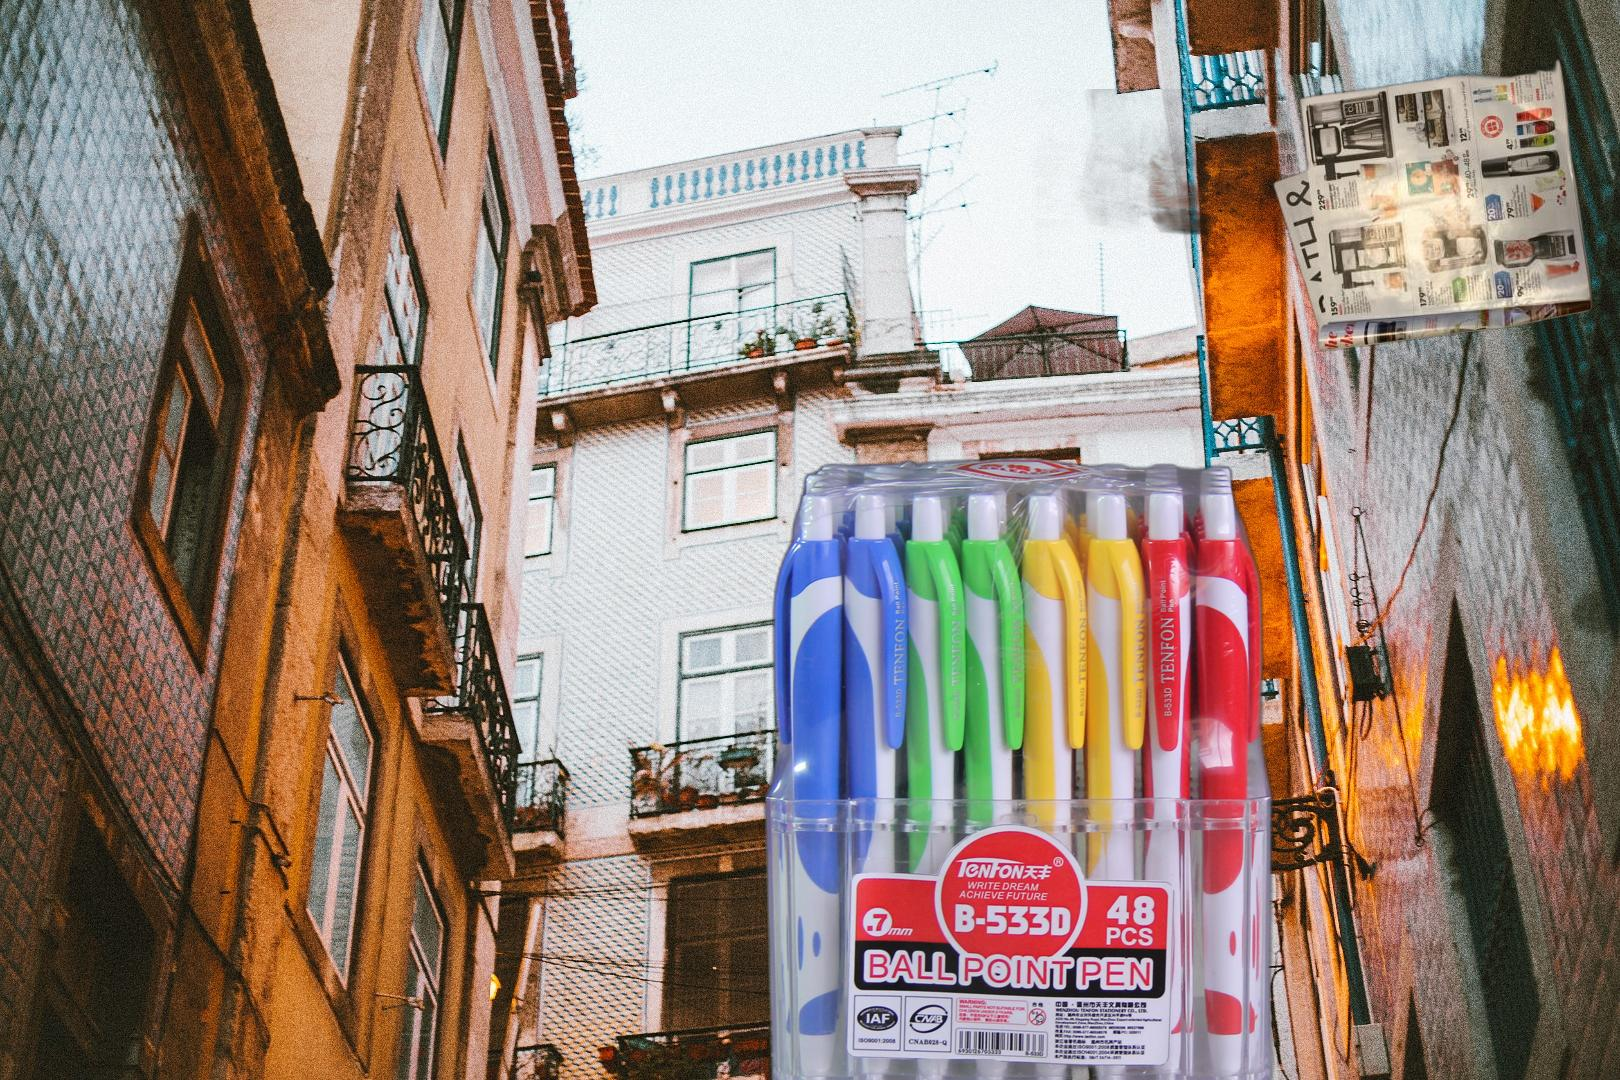paper: (1269, 55, 1596, 354)
penholder: (758, 450, 1279, 1080)
shoes: (1032, 89, 1315, 268)
